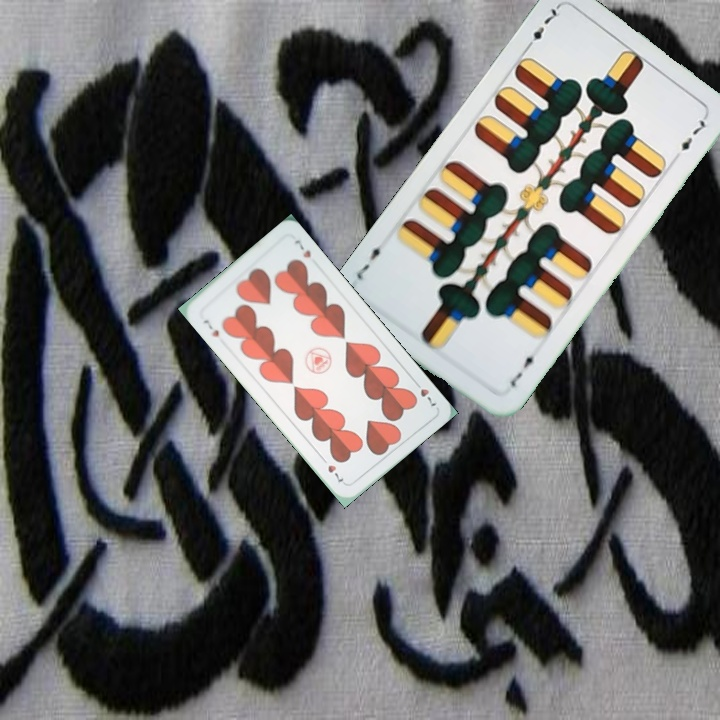E7: (521, 2, 564, 53), (506, 348, 541, 391)
H7: (409, 376, 439, 409), (199, 315, 222, 340)
